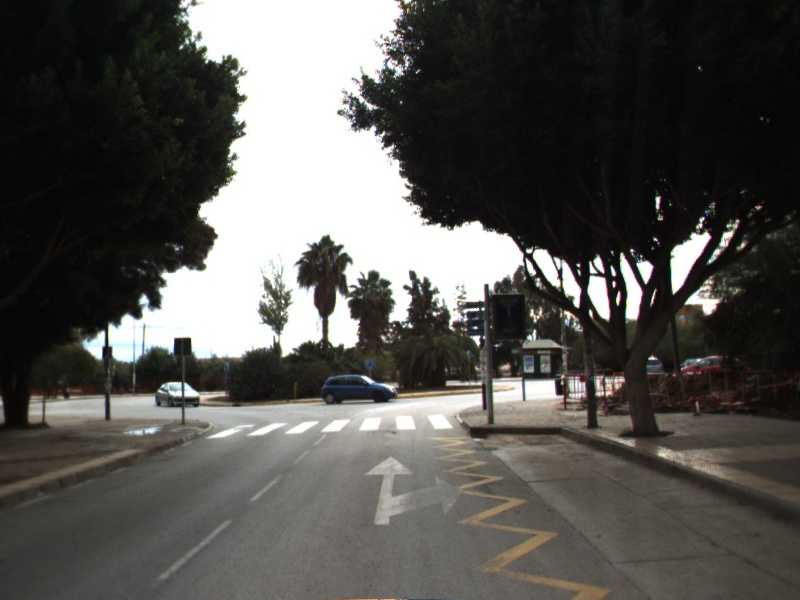STRAIGHT_RIGHT: (361, 454, 466, 527)
